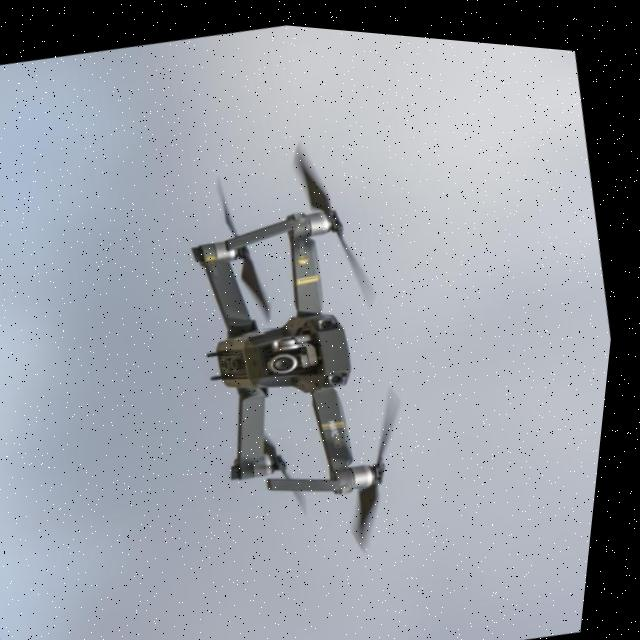drones: (116, 92, 510, 610)
